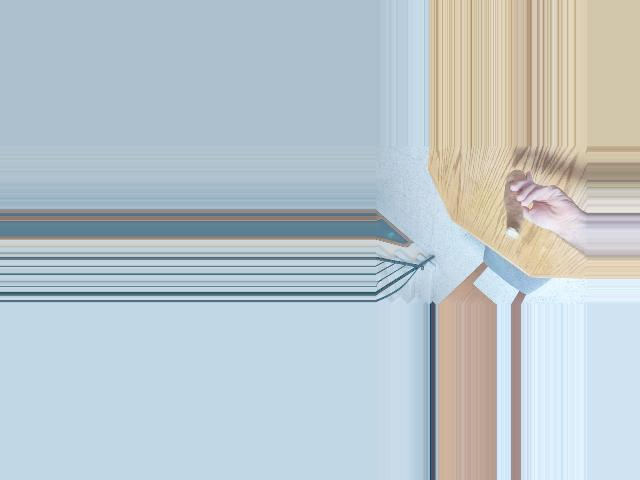sweet_potato: (503, 169, 531, 239)
